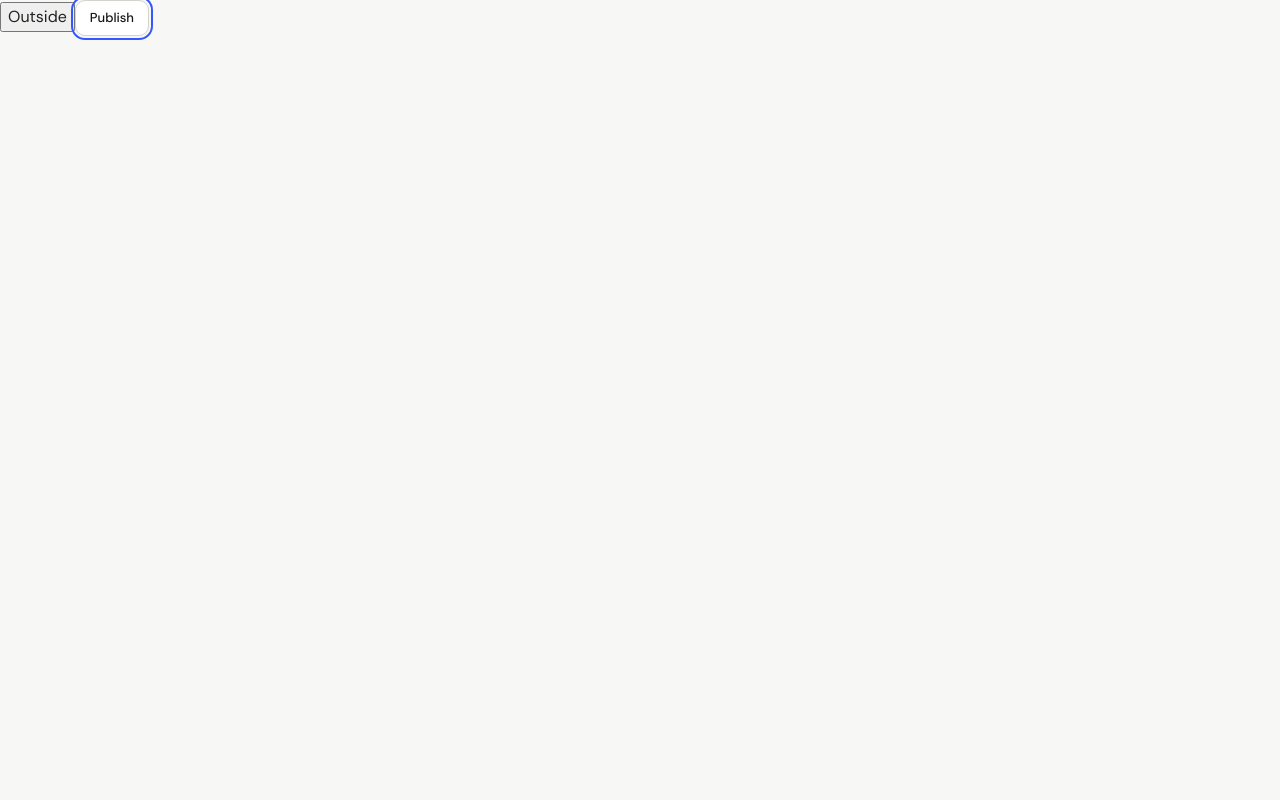
Popover › opens with focus inside and closes on Escape back to the trigger
Click the button "Publish" at point(112, 18), box left=75, top=0, right=149, bottom=36
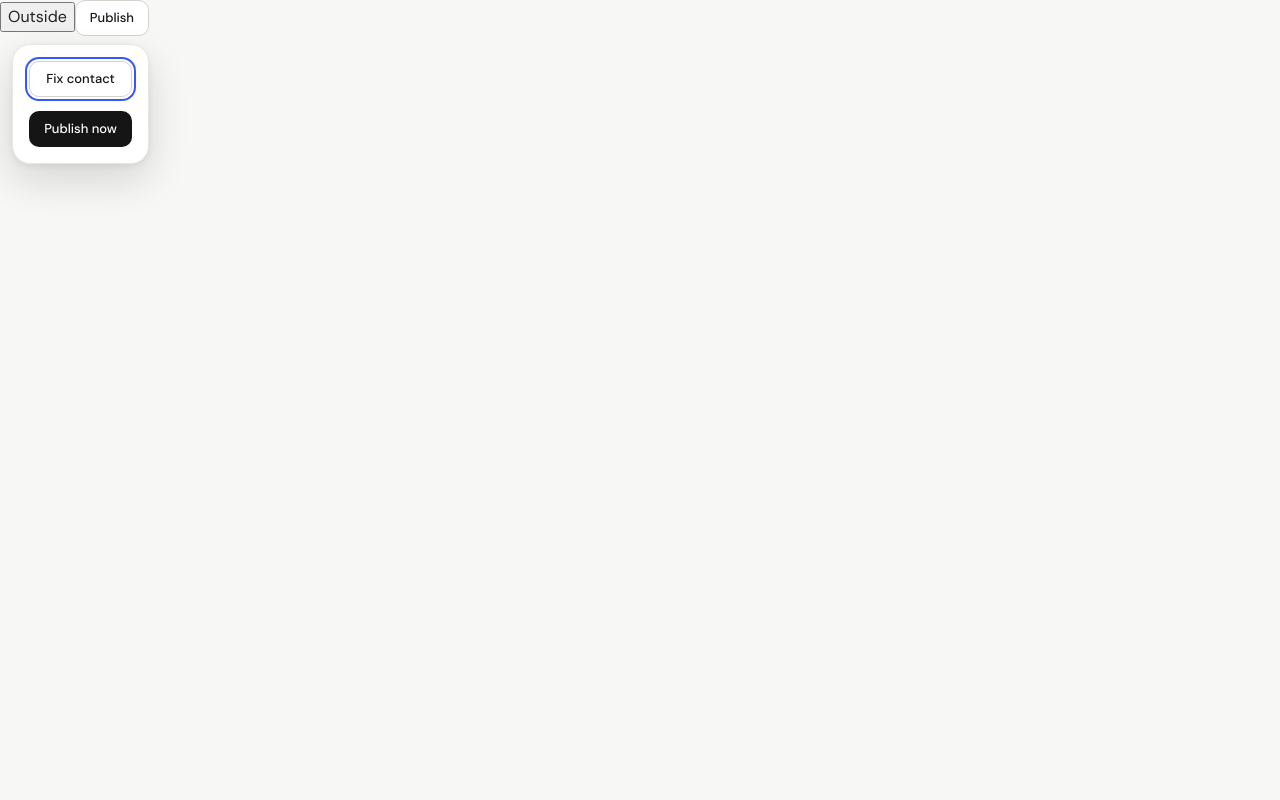
Check: the button "Fix contact" is shown
Press Escape in the button "Fix contact", box left=29, top=61, right=132, bottom=97
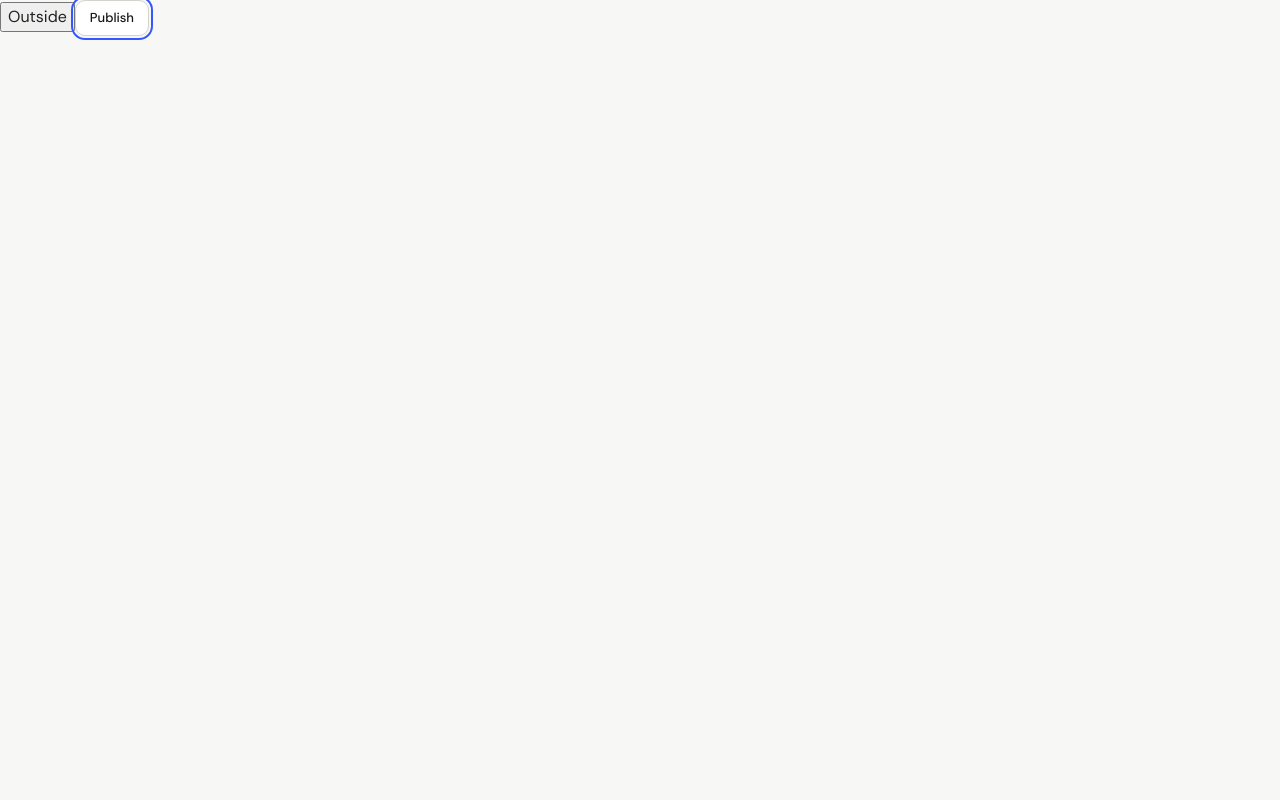
Check: the dialog is gone
Click the button "Publish" at point(112, 18), box left=75, top=0, right=149, bottom=36
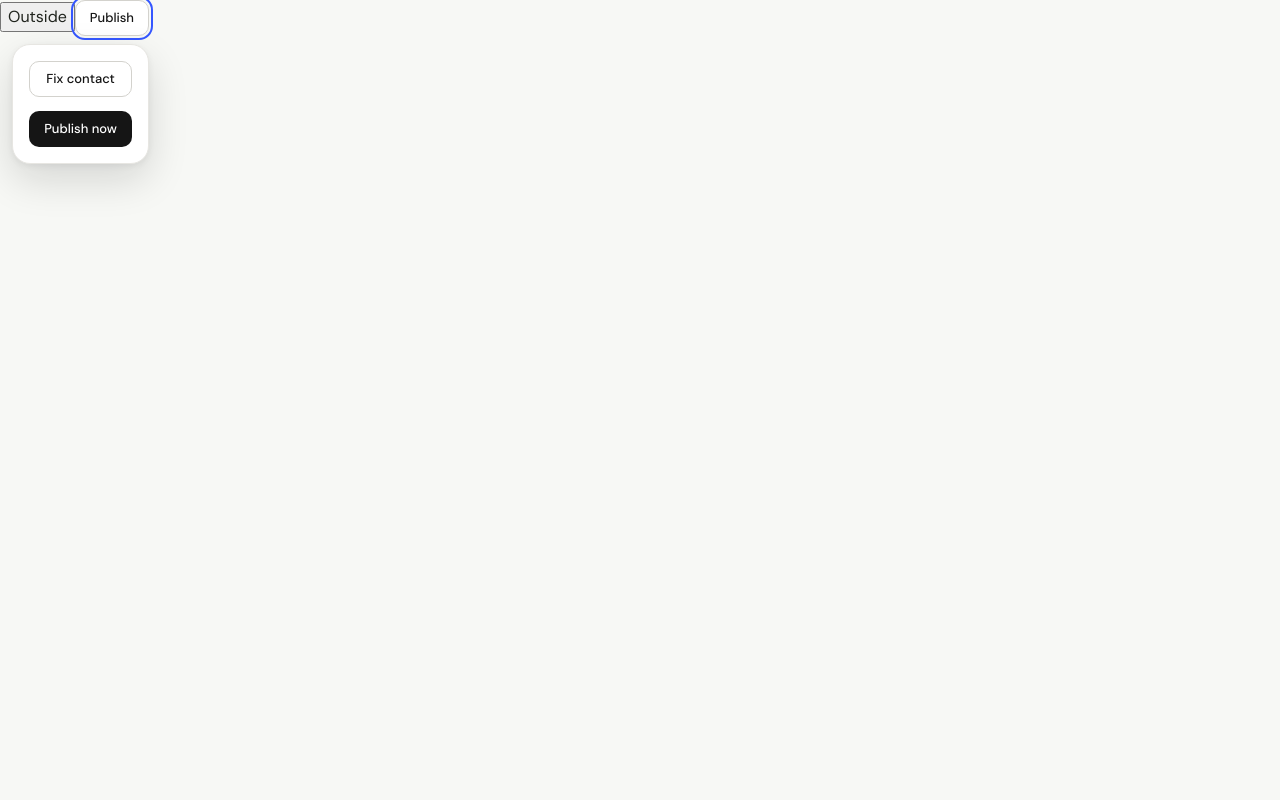
Press Escape in the button "Publish", box left=75, top=0, right=149, bottom=36
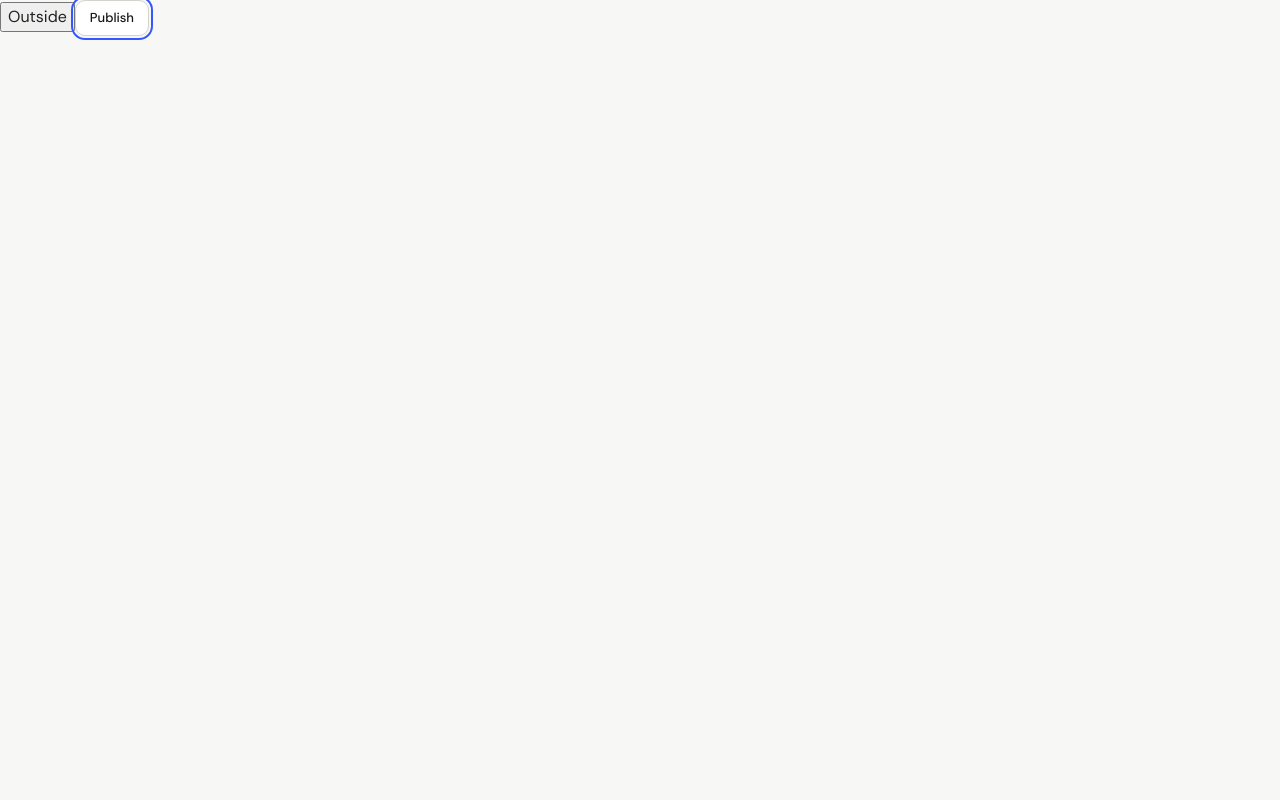
Check: the dialog is gone
